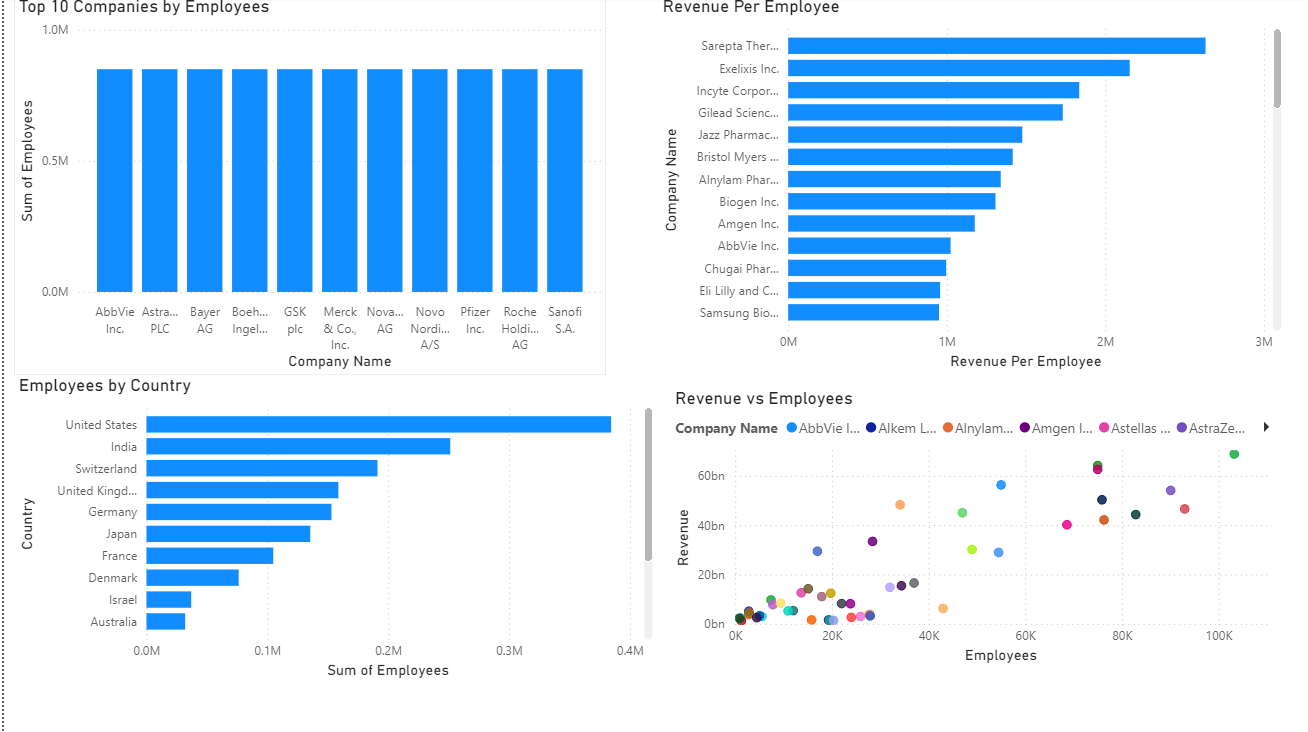

The page's visual inventory and layout, read from the dashboard file:
{"tool":"powerbi","page":{"name":"Workforce Analysis","canvas":[1280,720],"ordinal":3},"visuals":[{"type":"barChart","title":"Top 10 Companies by Employees","fields":{"Category":["therapeutic_area_master.Company Name"],"Y":["Sum(Validated_PCMRT_Main_Dataset.Employees)"]},"box":[10,0,580,370],"z":0},{"type":"clusteredBarChart","title":"Employees by Country","fields":{"Category":["Validated_PCMRT_Main_Dataset.Country"],"Y":["Sum(Validated_PCMRT_Main_Dataset.Employees)"]},"box":[10,370,590,302.5],"z":1000},{"type":"clusteredBarChart","title":"Revenue Per Employee","fields":{"Category":["Validated_PCMRT_Main_Dataset.Company Name"],"Y":["Validated_PCMRT_Main_Dataset.Revenue Per Employee"]},"box":[600,0,580,370],"z":2000},{"type":"scatterChart","title":"Revenue vs Employees","fields":{"Y":["Validated_PCMRT_Main_Dataset.Revenue"],"X":["Validated_PCMRT_Main_Dataset.Employees"],"Series":["Validated_PCMRT_Main_Dataset.Company Name"]},"box":[657.5,397.5,533.8,275],"z":3000}]}

Visuals, with their boxes in screenshot pixels (x1, y1, x2, y2), scaled from the page's 1280x720 canvas onto the 1308x732 screenshot:
"Top 10 Companies by Employees" barChart: BBox(10, 0, 603, 376)
"Employees by Country" clusteredBarChart: BBox(10, 376, 613, 684)
"Revenue Per Employee" clusteredBarChart: BBox(613, 0, 1206, 376)
"Revenue vs Employees" scatterChart: BBox(672, 404, 1217, 684)
